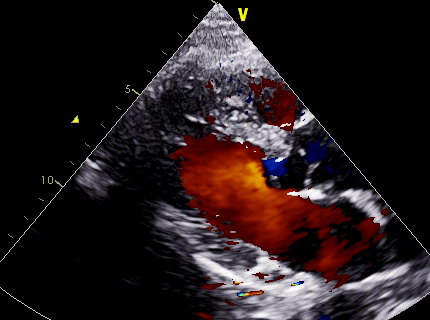AR: (183, 131, 290, 202)
